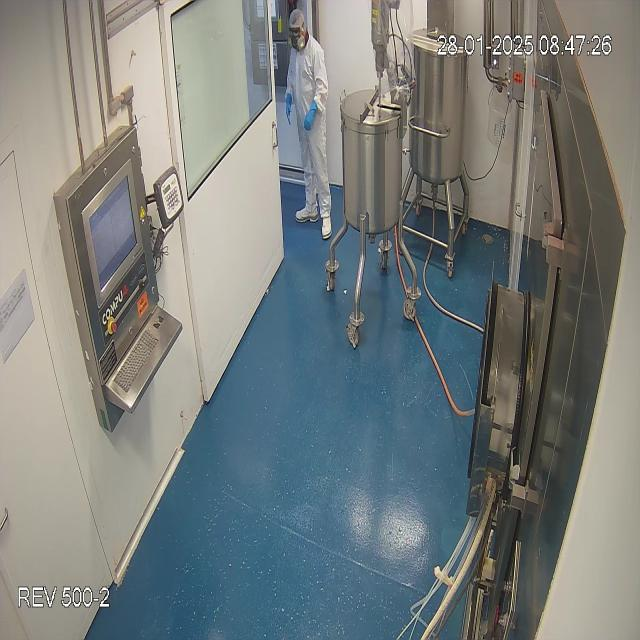bota: (291, 199, 335, 242)
pessoa: (282, 10, 340, 241)
touca: (284, 6, 311, 52)
